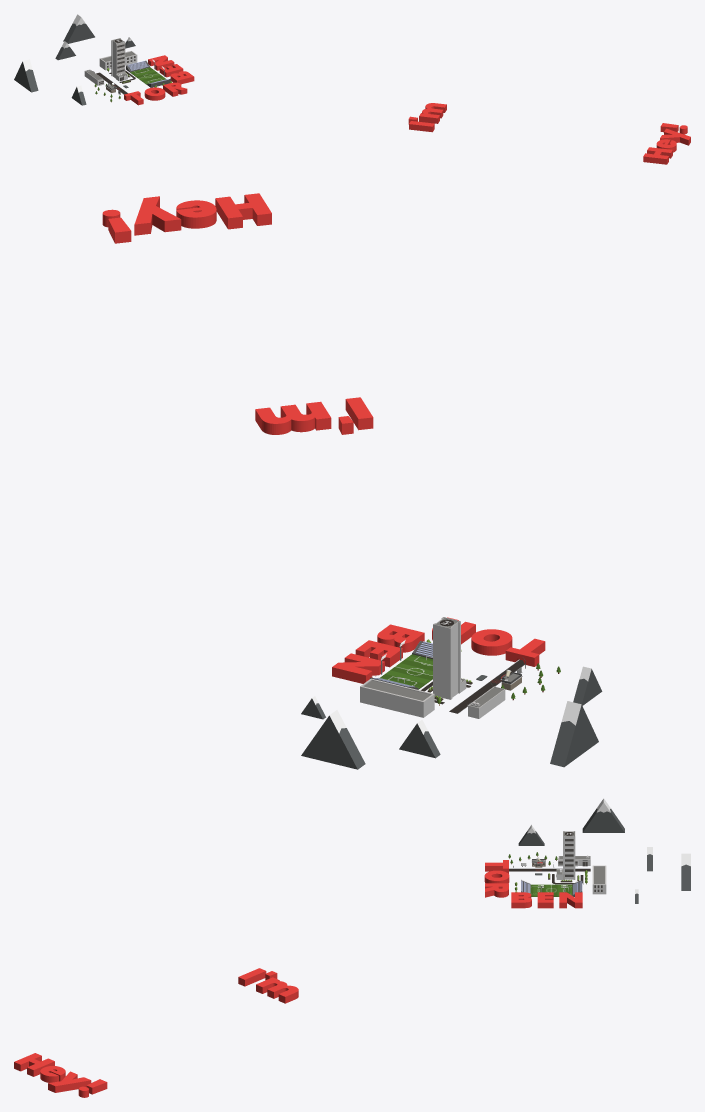
Rendered from city_merged.glb.
The picture shows the model from 3 angles, top to bottom: view 1: azimuth 30°, elevation 25°; view 2: azimuth 150°, elevation 25°; view 3: azimuth 270°, elevation 25°; orthographic projection. The views are drawn at different scales.
Visible parts, largest first — view 1: mountains, hey, im, tor, ben, skyscraper, back_building_3, soccer_pitch; view 2: mountains, hey, im, ben, back_building_3, skyscraper, tor, soccer_pitch; view 3: hey, mountains, im, ben, tor, skyscraper, back_building_3.
Part boxes in pixels (x1,y1,x2,y2): mountains: [14, 14, 135, 105]; hey: [643, 123, 690, 164]; im: [408, 103, 446, 132]; tor: [124, 82, 187, 105]; ben: [148, 55, 194, 84]; skyscraper: [109, 38, 135, 82]; back_building_3: [84, 51, 137, 85]; soccer_pitch: [126, 67, 168, 87]; mountains: [301, 666, 602, 769]; hey: [102, 193, 271, 243]; im: [255, 397, 373, 434]; ben: [332, 624, 424, 683]; back_building_3: [360, 678, 505, 718]; skyscraper: [421, 617, 470, 704]; tor: [432, 617, 545, 666]; soccer_pitch: [379, 654, 432, 689]; hey: [14, 1053, 107, 1097]; mountains: [518, 798, 690, 903]; im: [238, 968, 298, 1003]; ben: [511, 892, 582, 908]; tor: [484, 860, 509, 897]; skyscraper: [552, 831, 583, 884]; back_building_3: [558, 855, 606, 894].
Bounding box in the file's own units: 71.63 × 5.42 × 76.17.
Materials: 29 (4 with a texture image).
